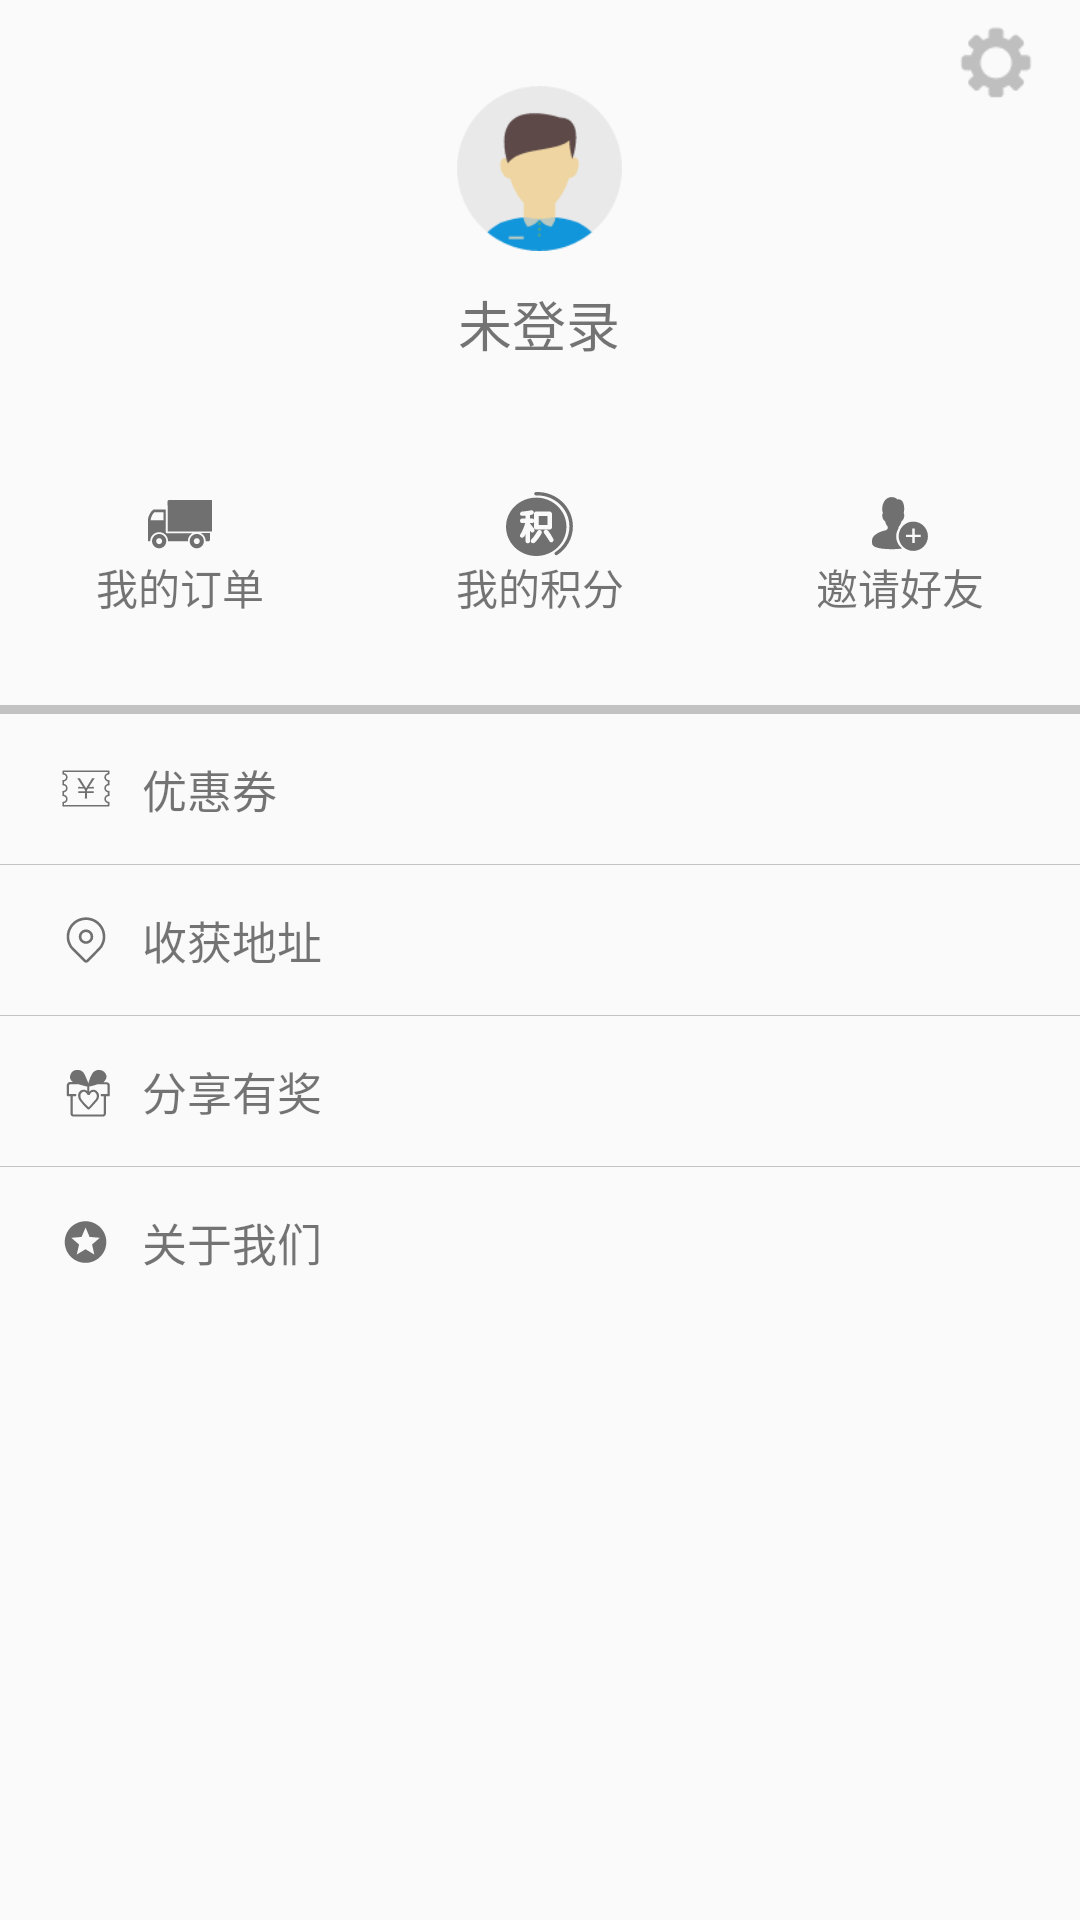

Screen size 1080px x 1920px. Icon name, then its center in pixels as point (x, y):
address: point (86, 940)
discount: point (86, 788)
head: point (539, 182)
prize: point (88, 1093)
setting: point (996, 62)
